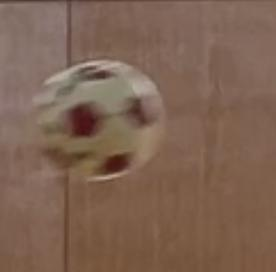Sports-Ball: (35, 58, 169, 182)
